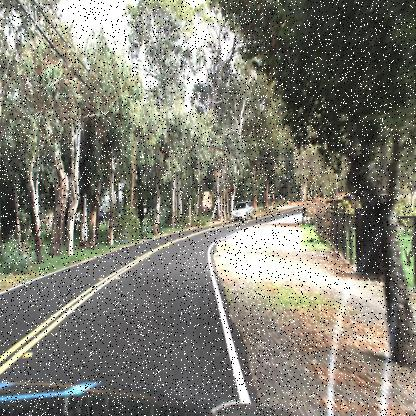car: (228, 193, 257, 228)
